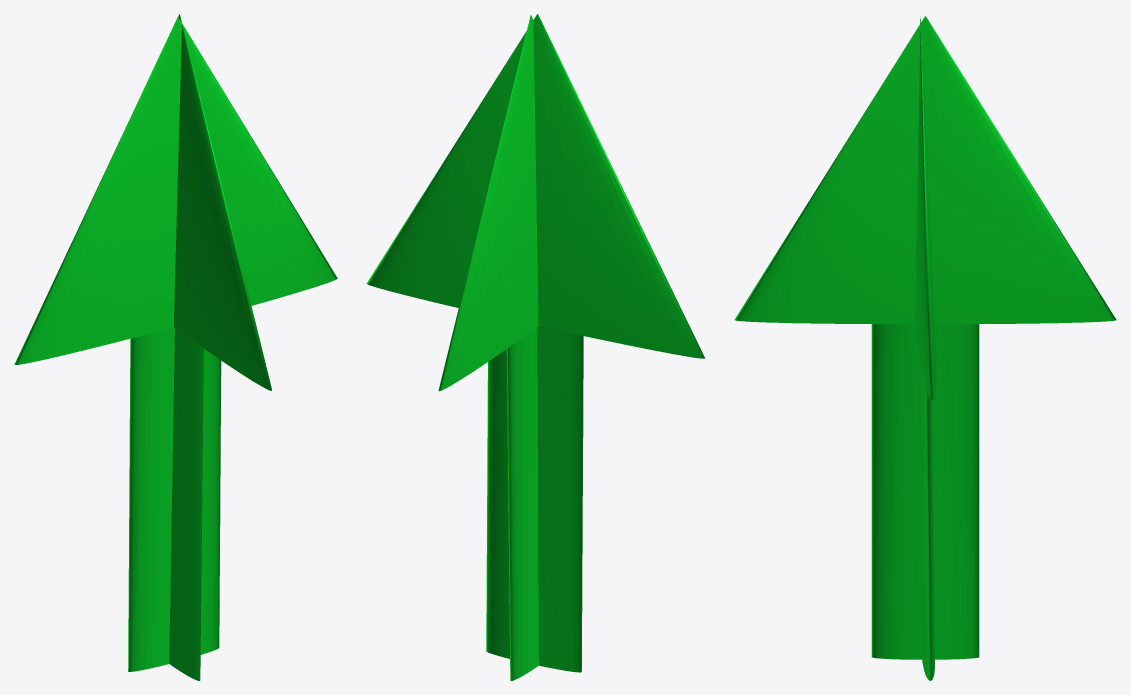
Rendered from arrow.glb.
3 views of the same model, side by side, from view 1: azimuth 30°, elevation 25°; view 2: azimuth 150°, elevation 25°; view 3: azimuth 270°, elevation 25° (orthographic).
Visible parts, largest first — view 1: Cylinder_Material.002_0.001, Cylinder_Material.002_0; view 2: Cylinder_Material.002_0.001, Cylinder_Material.002_0; view 3: Cylinder_Material.002_0, Cylinder_Material.002_0.001.
Boxes of the visible parts, x1,y1,x2,y2 form: Cylinder_Material.002_0.001: (14, 17, 337, 671); Cylinder_Material.002_0: (169, 14, 271, 680); Cylinder_Material.002_0.001: (366, 14, 705, 672); Cylinder_Material.002_0: (438, 15, 538, 680); Cylinder_Material.002_0: (734, 16, 1116, 659); Cylinder_Material.002_0.001: (915, 17, 936, 680).
Bounding box in the file's own units: 0.3394 × 0.6314 × 0.3397.
